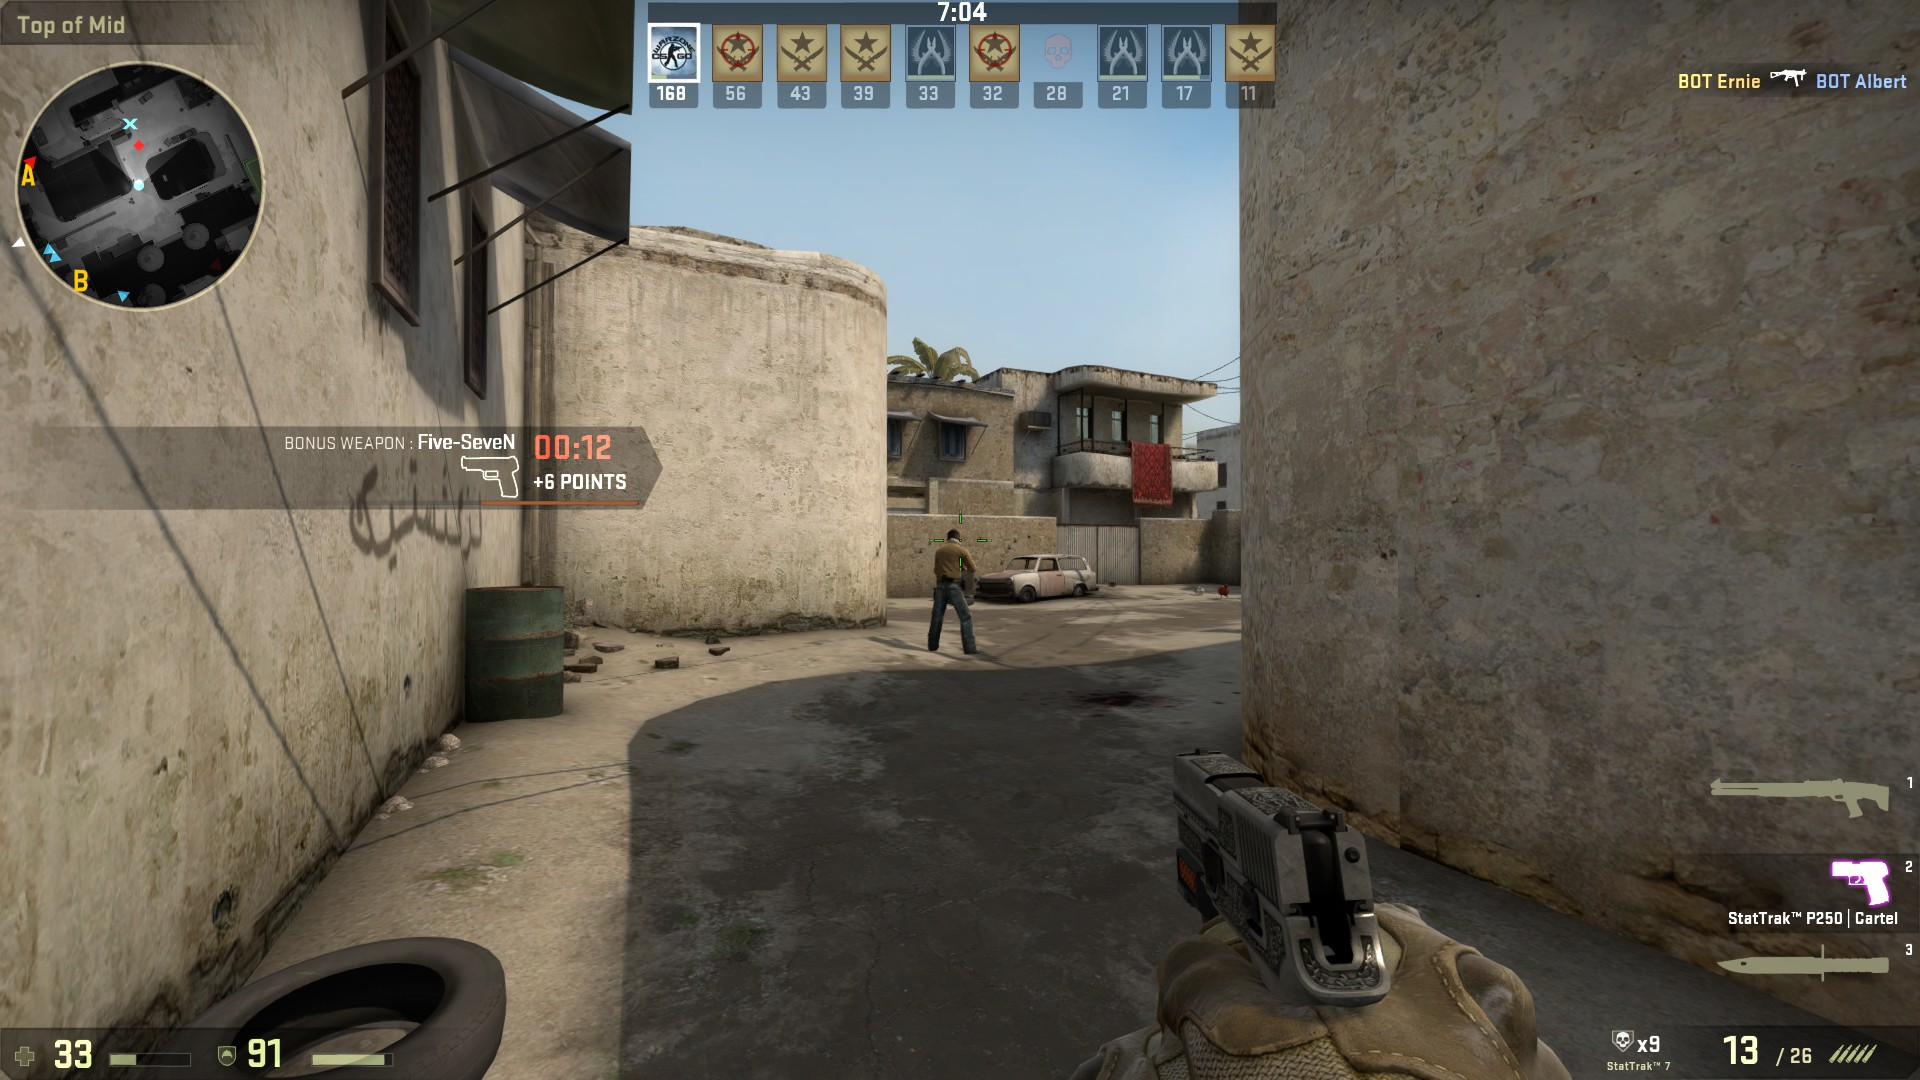t: (924, 527, 980, 654)
th: (942, 527, 967, 550)
